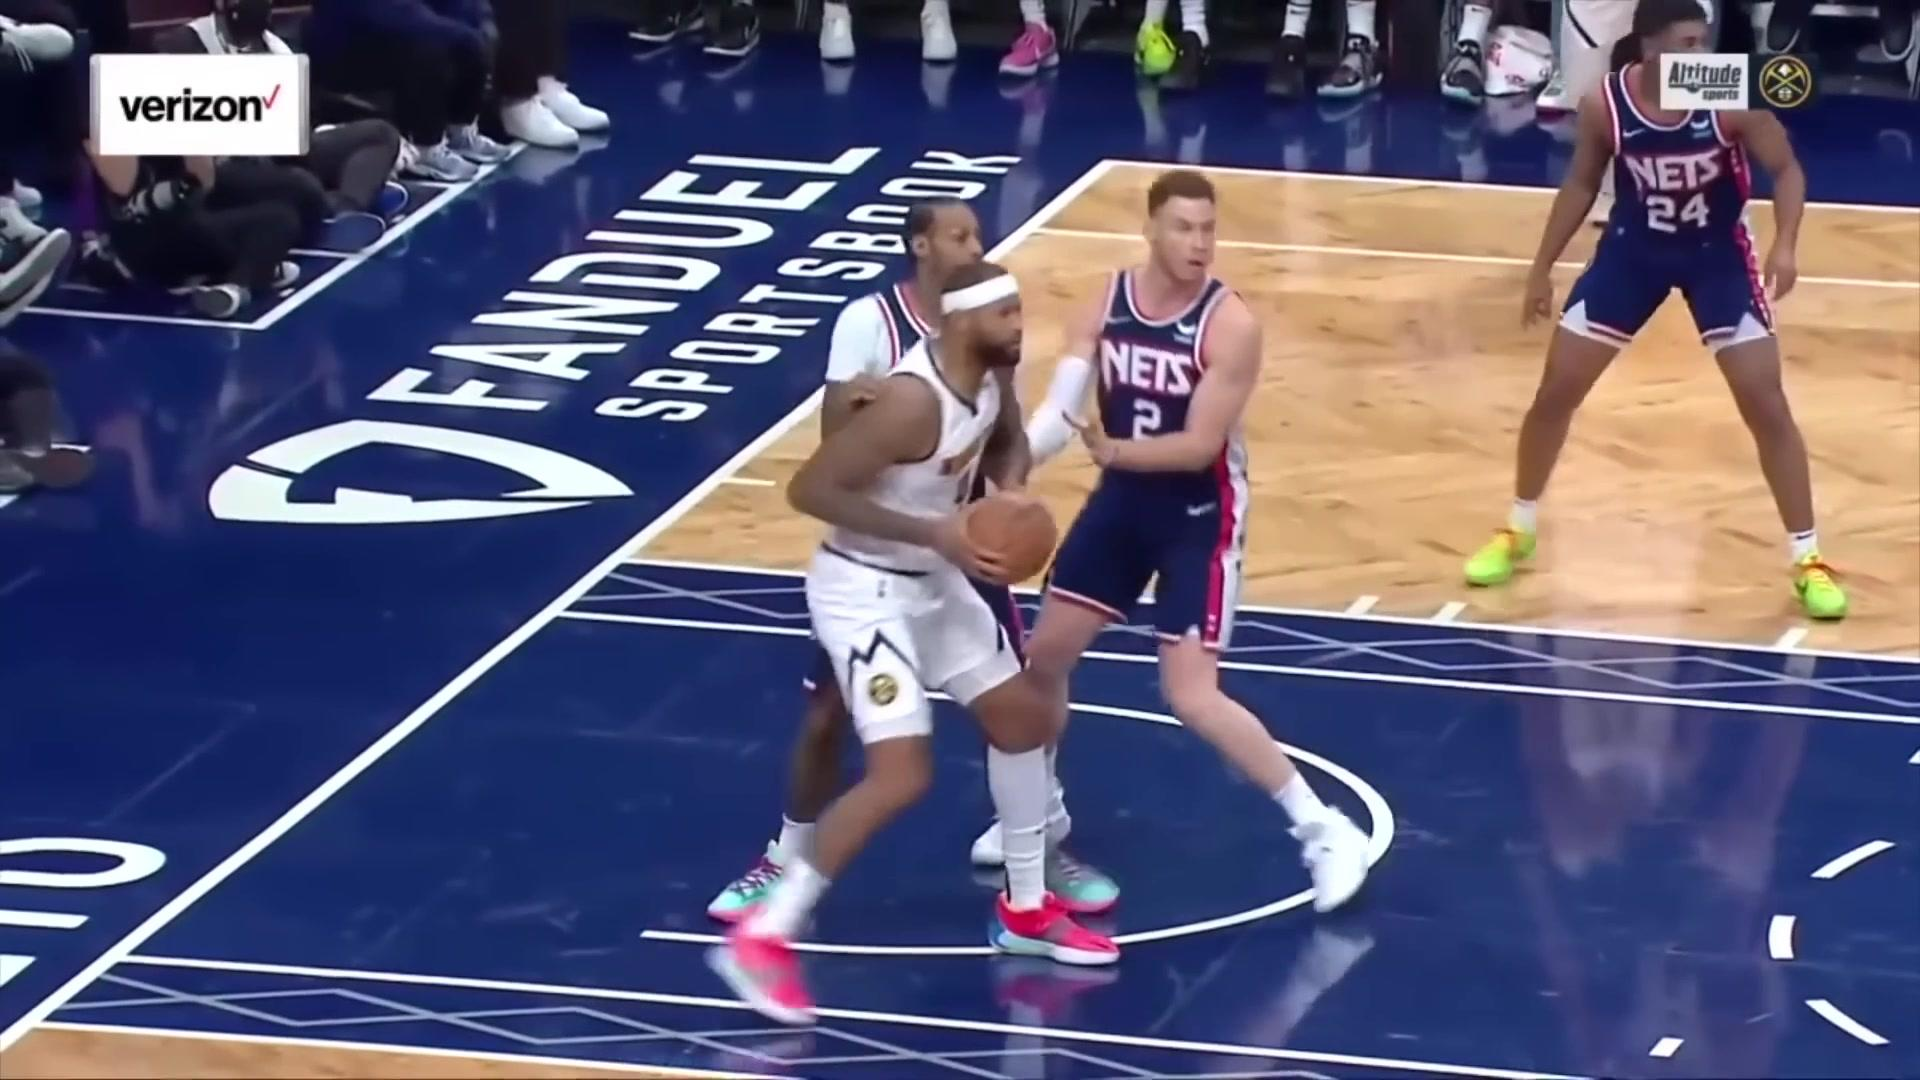foul: (728, 211, 1125, 990)
